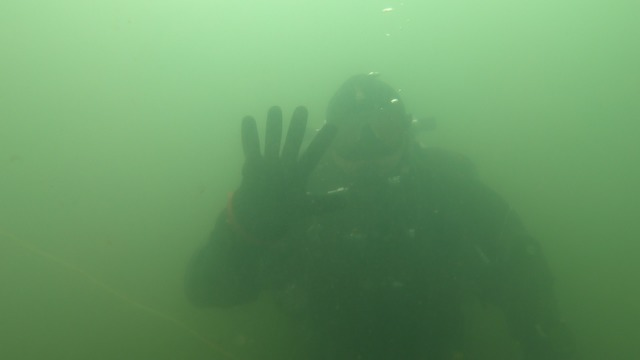Hand: (213, 98, 340, 234)
Head: (300, 75, 446, 213)
